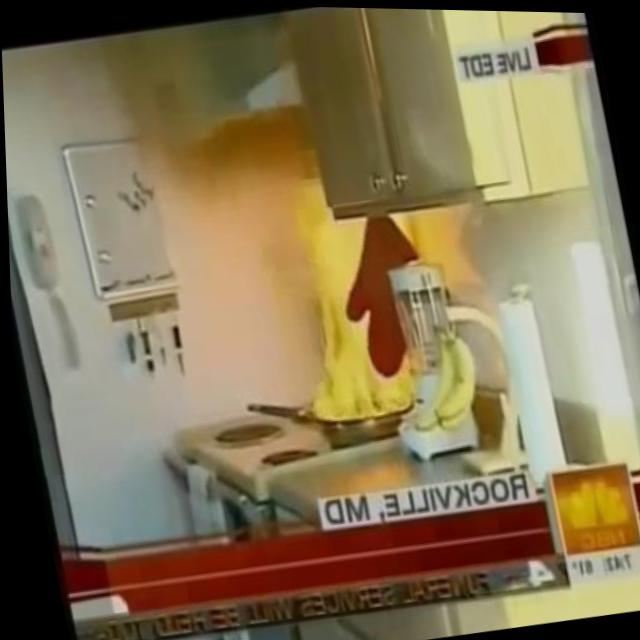fire: (259, 206, 444, 430), (222, 149, 326, 234)
